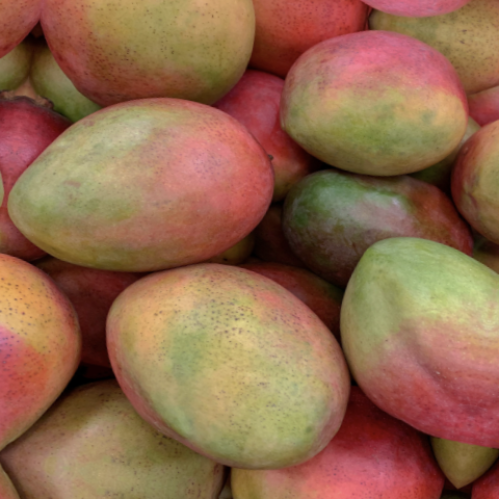mango: (0, 31, 320, 341), (78, 237, 377, 499), (315, 205, 499, 441), (262, 14, 472, 197)
